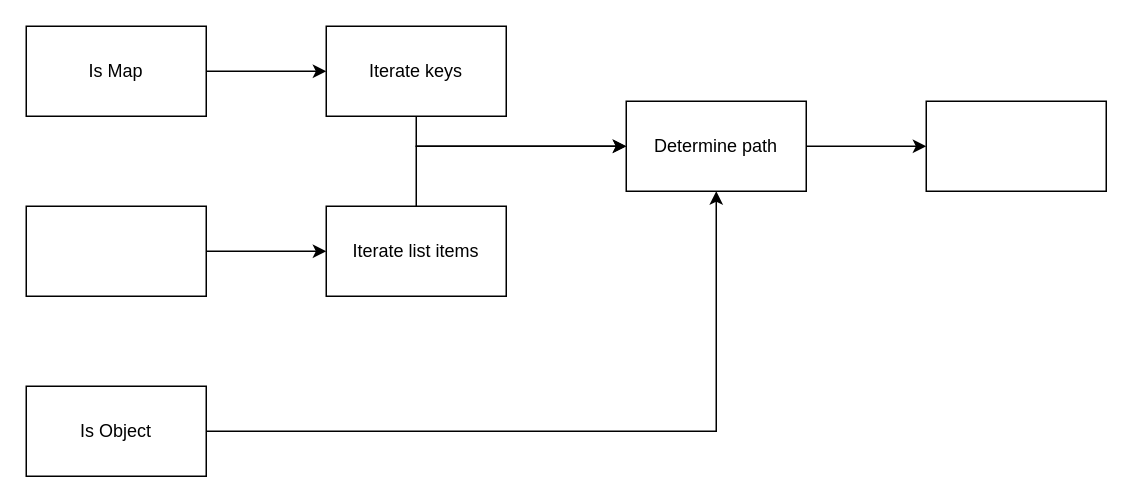
The diagram is 1133 pixels wide and 503 high, and some of its shapes have lost their labels. Each missing label, with the centre of its shape:
"Create top level map for path entry" belongs at [1015,145].
"Is List" belongs at [115,250].
